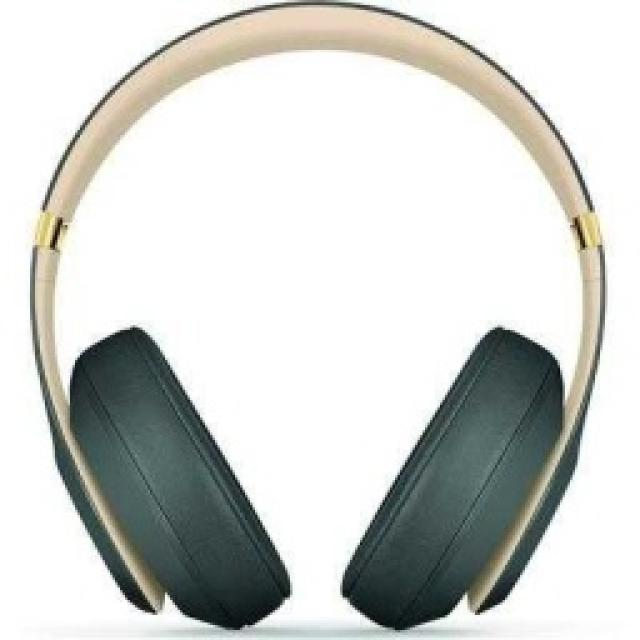headphones: (27, 0, 605, 630)
